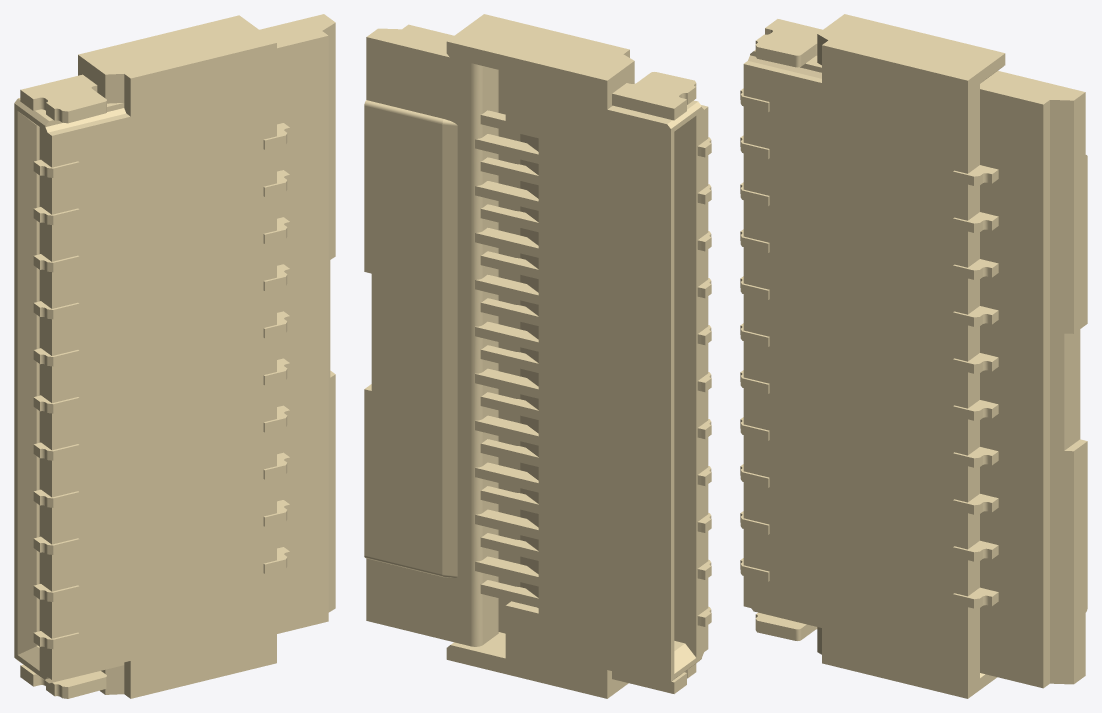
File: sfe-fpc_0.3mm-21.glb
3 views of the same model, side by side, from view 1: azimuth 30°, elevation 25°; view 2: azimuth 150°, elevation 25°; view 3: azimuth 330°, elevation 25° (orthographic).
Parts seen in each view (by area): view 1: 0.9166666666666666_0.75_0.5_0.9; view 2: 0.9166666666666666_0.75_0.5_0.9; view 3: 0.9166666666666666_0.75_0.5_0.9.
Part boxes in pixels (box(x1,y1,x2,y2)): 0.9166666666666666_0.75_0.5_0.9: box(14, 14, 335, 698); 0.9166666666666666_0.75_0.5_0.9: box(364, 14, 711, 698); 0.9166666666666666_0.75_0.5_0.9: box(740, 14, 1087, 698).
Bounding box in the file's own units: 0.42 × 0.79 × 0.09.
